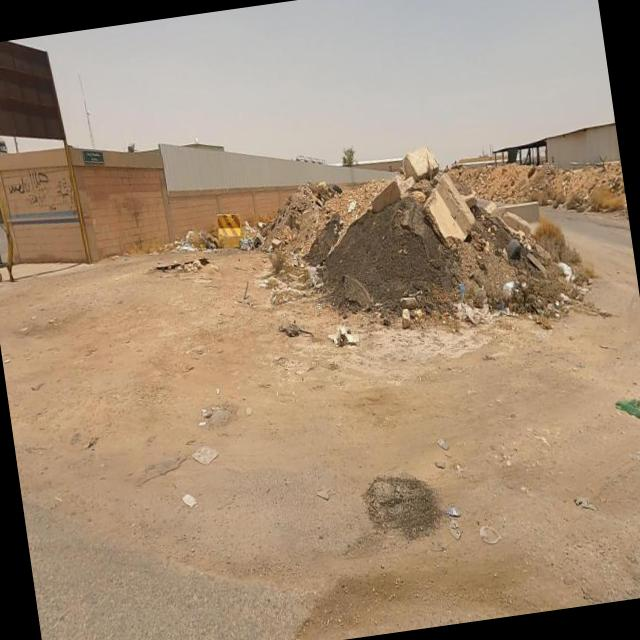debris: (397, 439, 522, 615), (152, 349, 272, 514), (410, 242, 522, 362), (200, 187, 300, 305), (522, 222, 622, 336), (152, 185, 240, 304), (480, 187, 564, 300), (299, 294, 402, 382), (464, 250, 548, 340)
